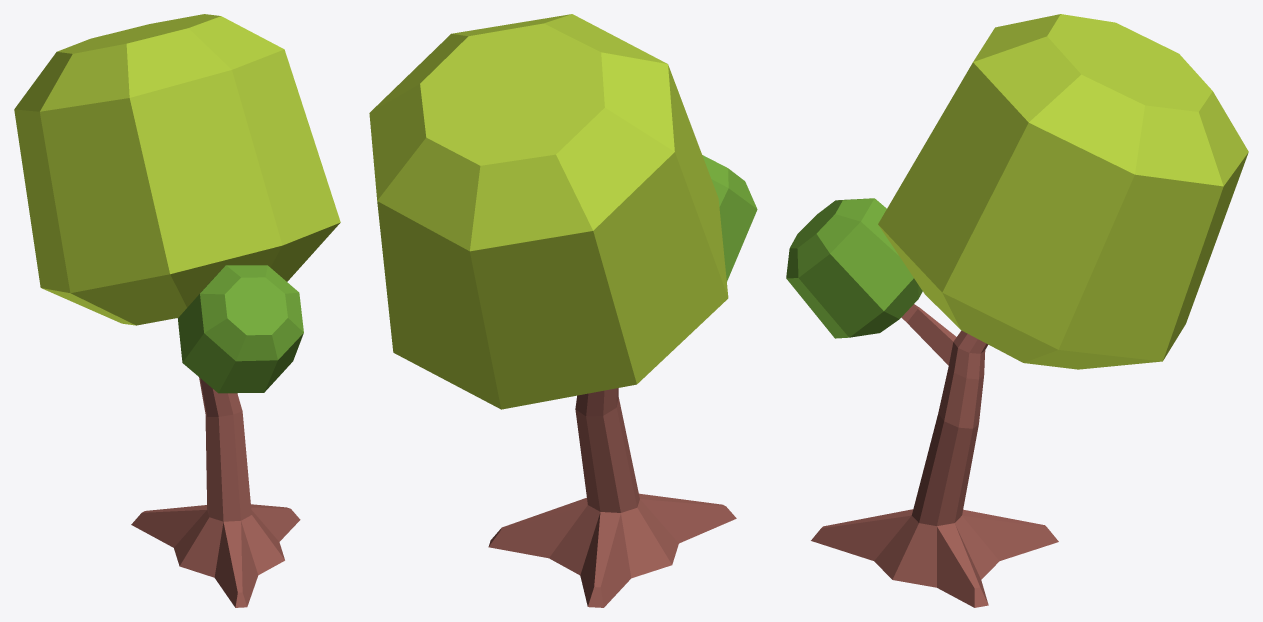
Rendered from Drvo_02.fbx.
The picture shows the model from 3 angles, left to right: view 1: azimuth 30°, elevation 25°; view 2: azimuth 150°, elevation 25°; view 3: azimuth 270°, elevation 25°; orthographic projection. The views are drawn at different scales.
Visible parts, largest first — view 1: Drvo_02; view 2: Drvo_02; view 3: Drvo_02.
Boxes of the visible parts, x1,y1,x2,y2 form: Drvo_02: (14,14,340,607); Drvo_02: (369,14,757,607); Drvo_02: (786,14,1248,607).
Bounding box in the file's own units: 93.53 × 164 × 129.
